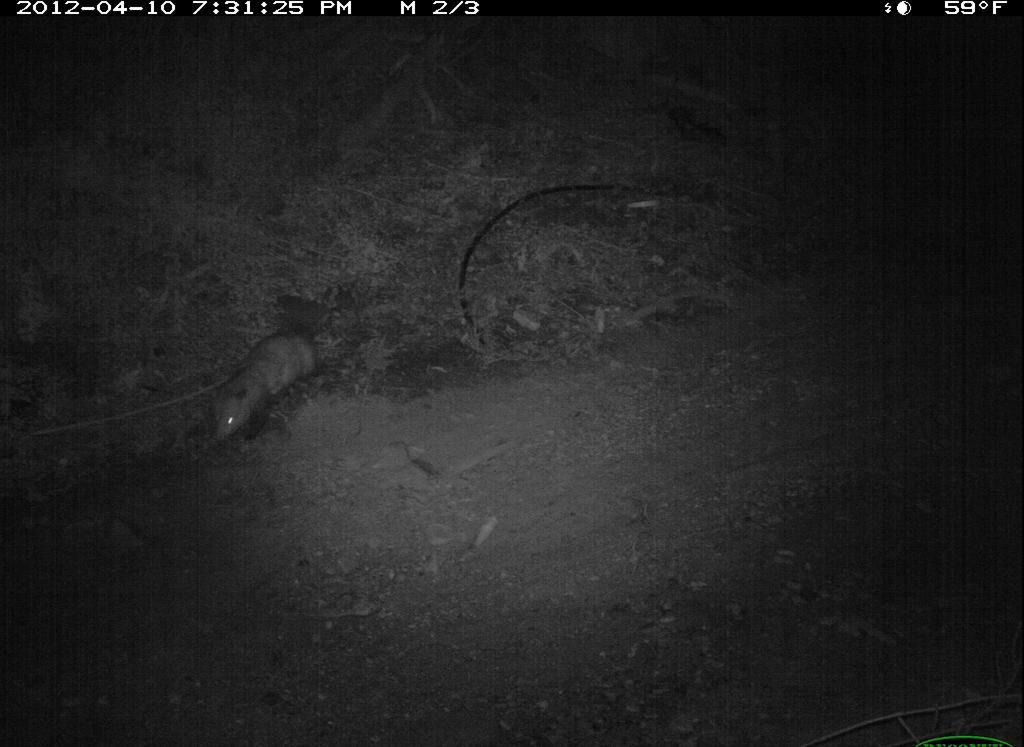opossum: (198, 314, 337, 459)
